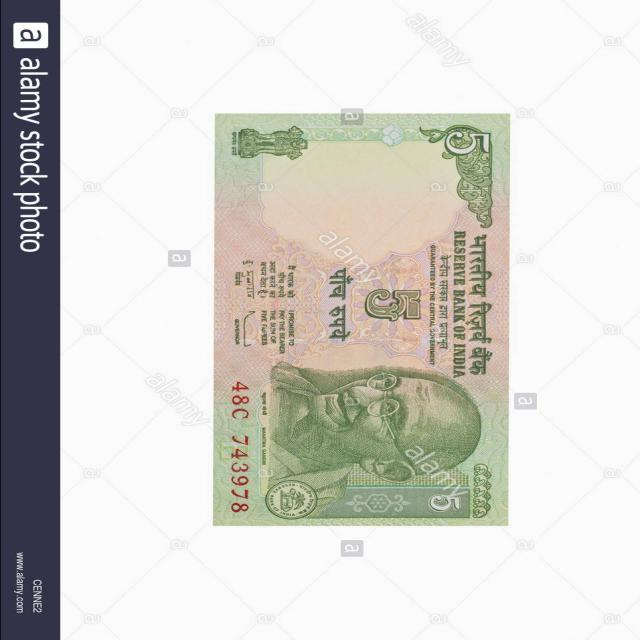5IndianRupees: (209, 110, 512, 522)
